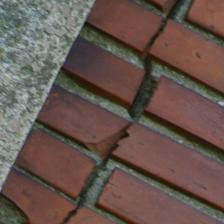Crack: (32, 2, 148, 221)
